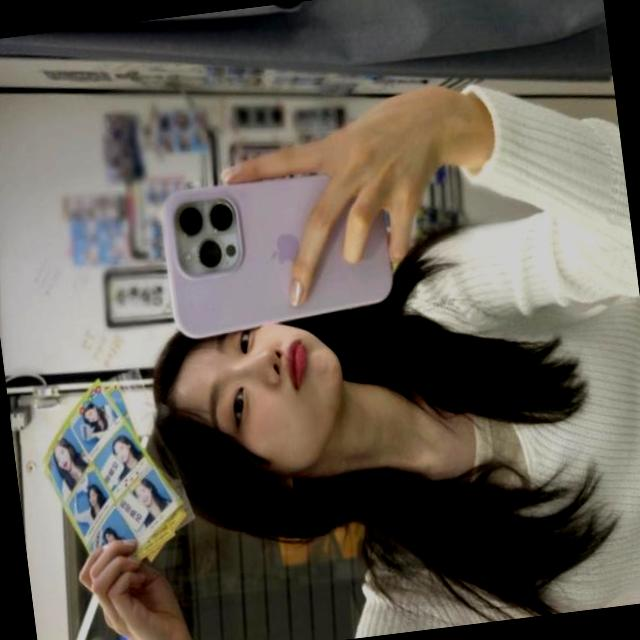lens_back: (204, 192, 240, 237), (191, 235, 227, 273), (171, 202, 205, 240)
phone: (154, 159, 404, 341)
